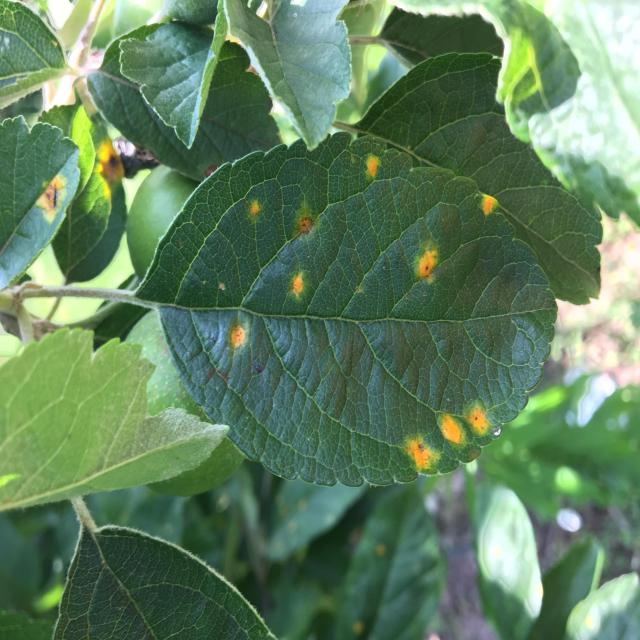Rust: (397, 415, 436, 499), (467, 381, 500, 457), (34, 158, 71, 225), (464, 177, 504, 226), (434, 396, 467, 451), (278, 265, 313, 310), (358, 144, 383, 203), (413, 242, 441, 292), (238, 191, 271, 225), (291, 207, 320, 245), (221, 321, 253, 355)
